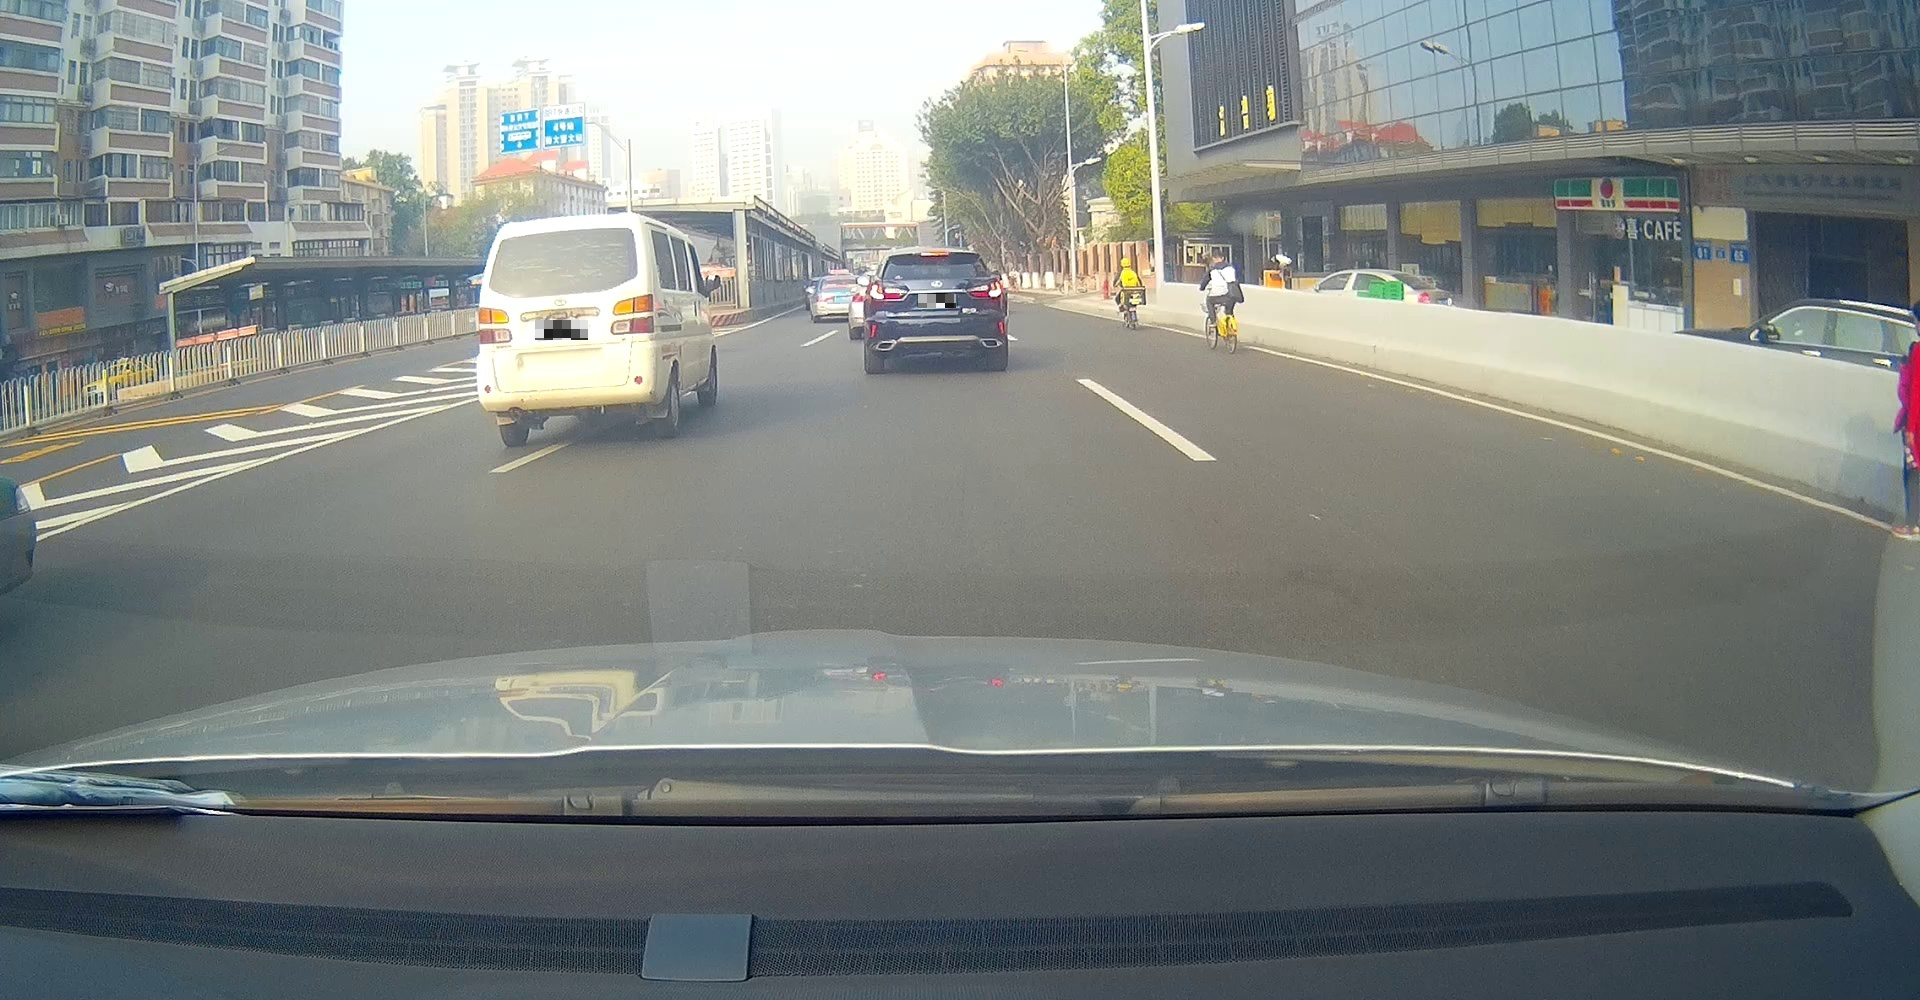L_light: (477, 307, 512, 344), (869, 280, 908, 299)
R_light: (611, 294, 653, 335), (968, 280, 1004, 299)
T_light: (549, 231, 577, 237), (919, 253, 949, 256)
day-brake: (865, 249, 1008, 374)
day-no: (477, 214, 655, 445)
plate_1: (535, 320, 588, 340)
plate_2: (918, 294, 956, 308)
